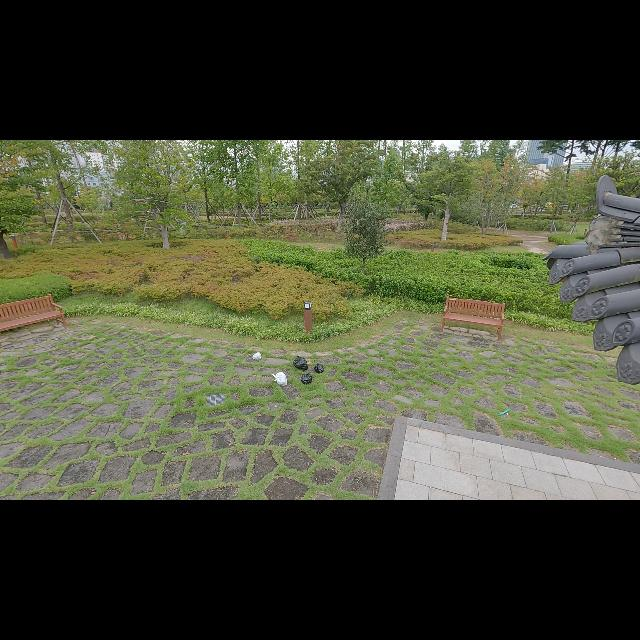trash: (273, 370, 289, 388), (292, 354, 308, 370), (252, 350, 264, 362), (300, 374, 314, 384), (314, 362, 324, 373)
